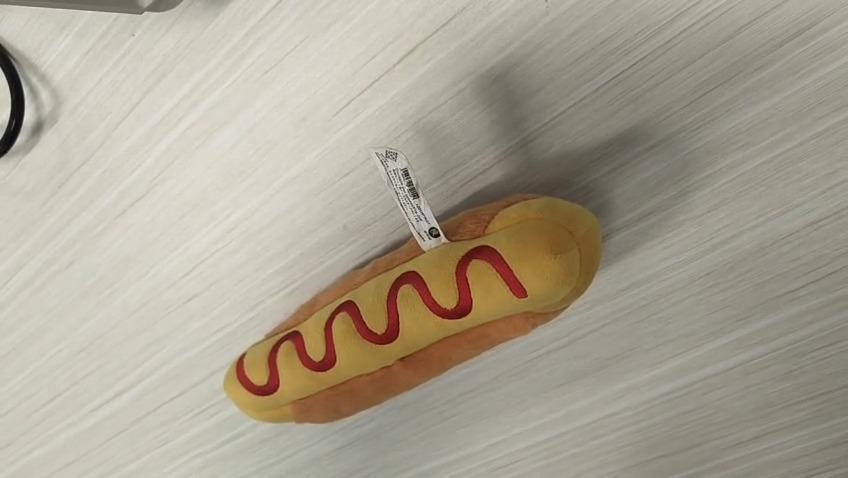hotdog: (222, 190, 602, 424)
